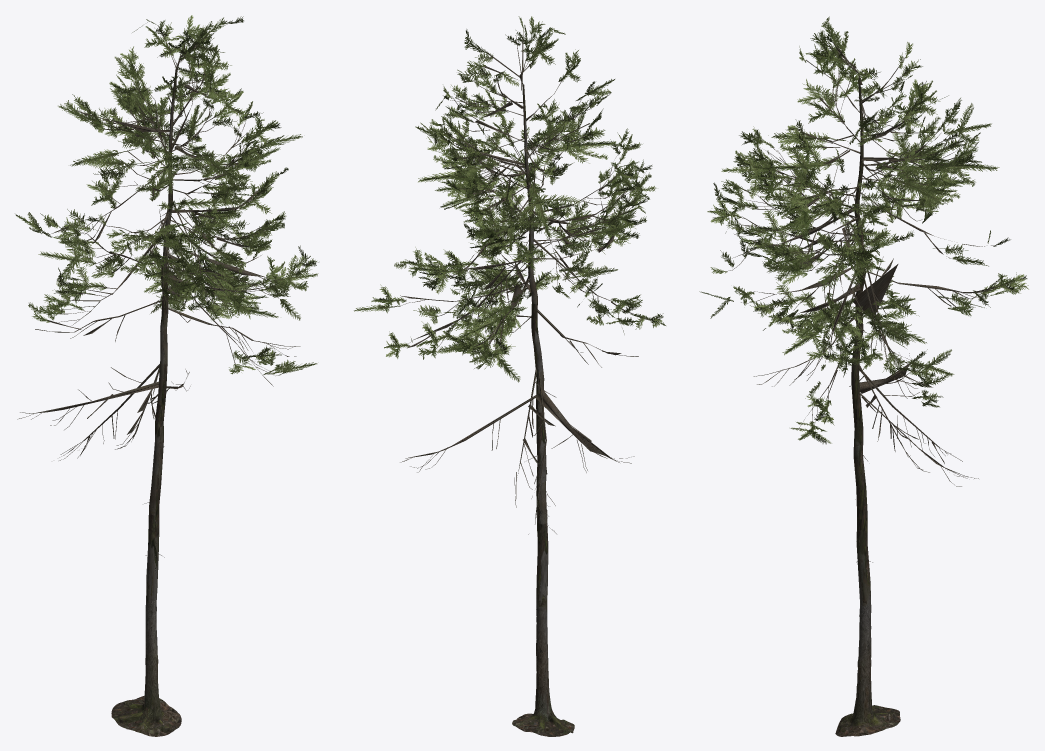
File: fir-2-mid.glb
3 views of the same model, side by side, from view 1: azimuth 30°, elevation 25°; view 2: azimuth 150°, elevation 25°; view 3: azimuth 270°, elevation 25° (orthographic). The views are drawn at different scales.
Parts seen in each view (by area): view 1: fir_2_mid; view 2: fir_2_mid; view 3: fir_2_mid.
Part boxes in pixels (box(x1,y1,x2,y2)): fir_2_mid: box(15, 15, 318, 736); fir_2_mid: box(354, 16, 665, 736); fir_2_mid: box(699, 16, 1028, 736).
Bounding box in the file's own units: 7.91 × 19.15 × 8.01.
3 materials, 3 textured.
